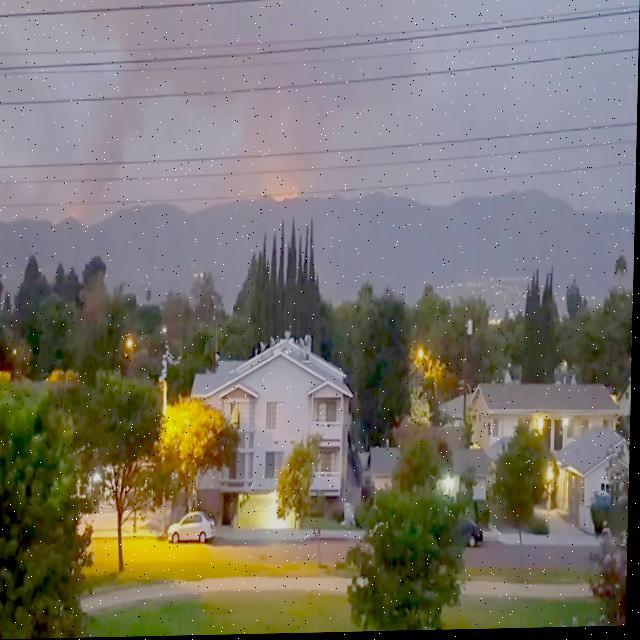Fire: (278, 192, 300, 204)
